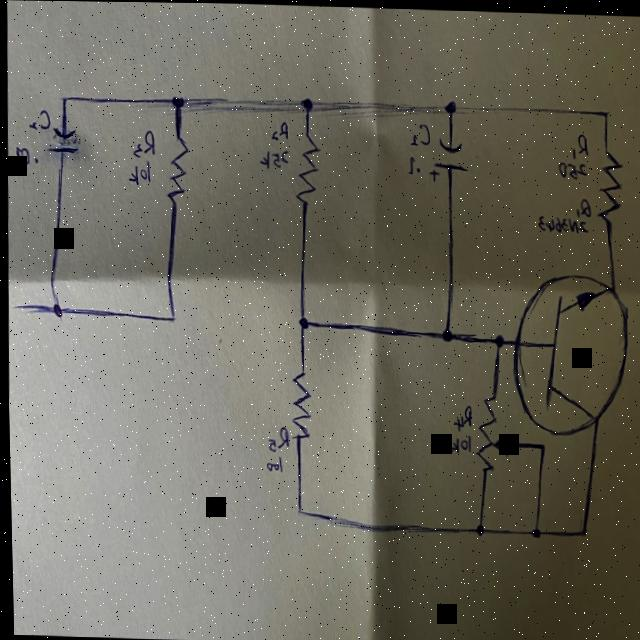capacitor: (425, 133, 468, 181), (46, 122, 78, 155)
junction: (432, 318, 456, 347), (167, 84, 188, 115), (438, 90, 461, 117), (294, 87, 315, 115), (468, 512, 488, 541), (286, 497, 306, 521), (292, 307, 311, 332), (46, 296, 65, 321), (522, 518, 541, 543), (162, 304, 179, 330), (571, 519, 590, 541), (55, 84, 72, 106), (490, 326, 506, 348), (533, 435, 548, 455), (598, 102, 611, 120)
resistor: (472, 388, 510, 473), (291, 129, 320, 210), (593, 145, 623, 222), (163, 132, 191, 208), (285, 366, 309, 441)
terminal: (6, 295, 29, 315)
text: (535, 213, 586, 233), (125, 158, 154, 188), (257, 143, 289, 170), (129, 124, 155, 157), (263, 421, 287, 451), (555, 156, 586, 178), (25, 106, 50, 130), (11, 145, 39, 165), (450, 402, 471, 428), (259, 452, 282, 475), (447, 431, 469, 453), (268, 116, 289, 139), (409, 120, 429, 144), (571, 130, 589, 155), (573, 193, 592, 214), (403, 152, 419, 175)
transistor: (507, 269, 632, 434)
